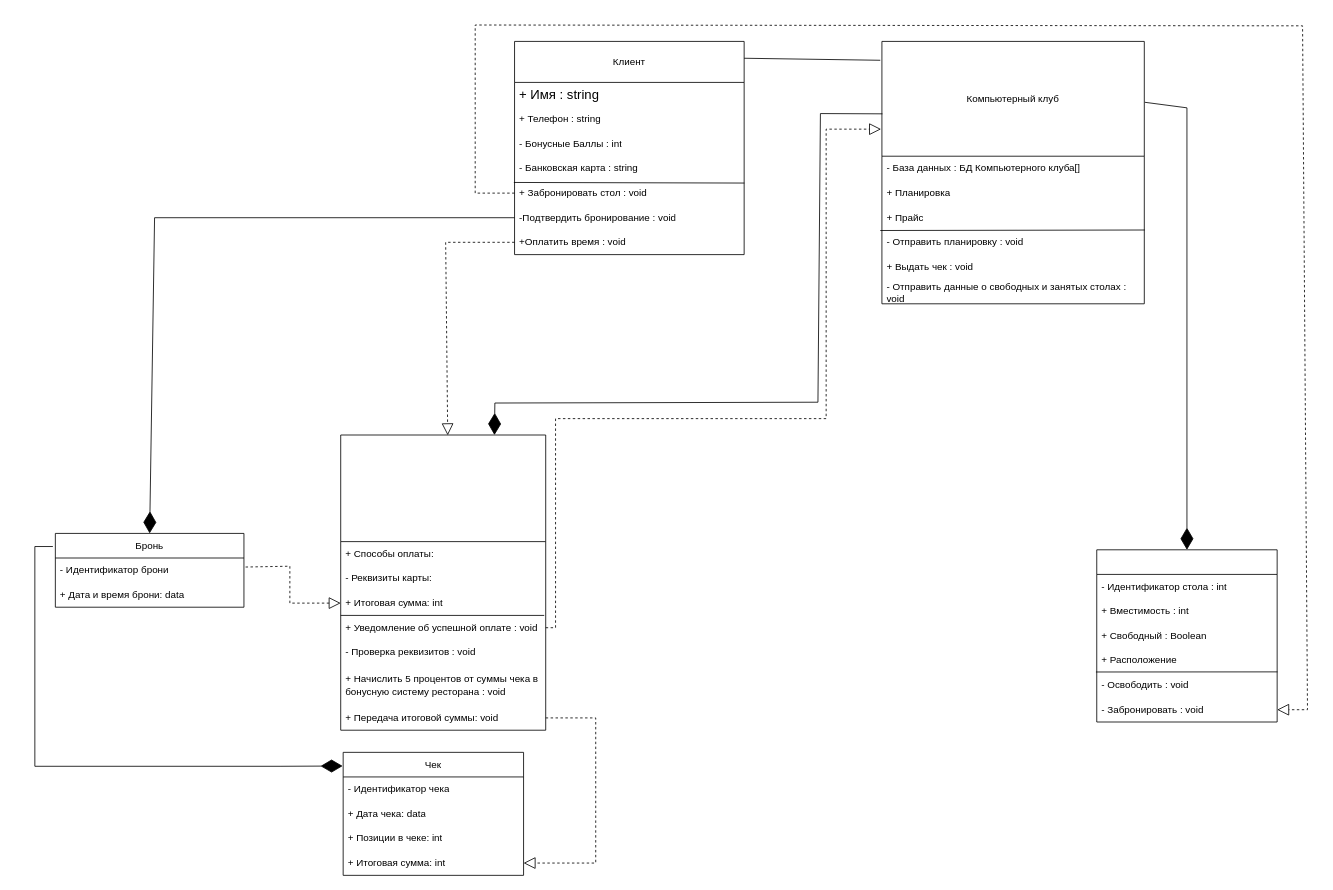
Some shapes in this 1333 by 890 pixel diagram are drawn without their labels. Here are the shapes that lost their labels. From the top down, the box of each, then its label:
(340, 434, 546, 730): Платёжная система
(1096, 549, 1277, 722): Столы
